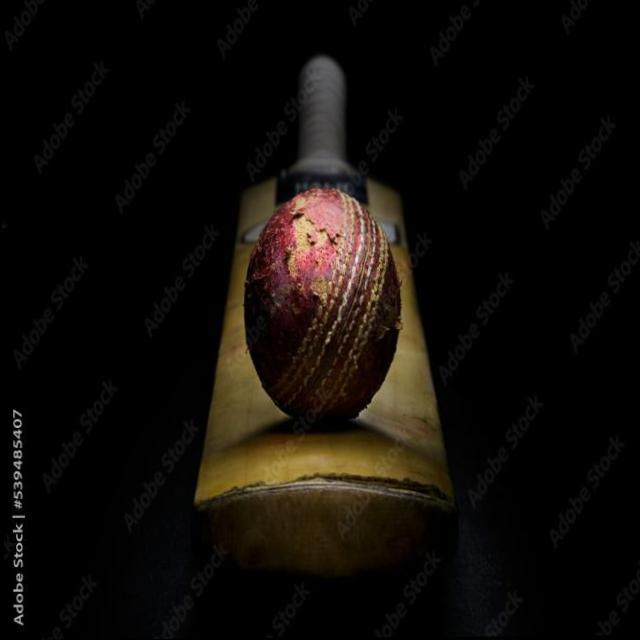cricket ball: (243, 188, 402, 424)
